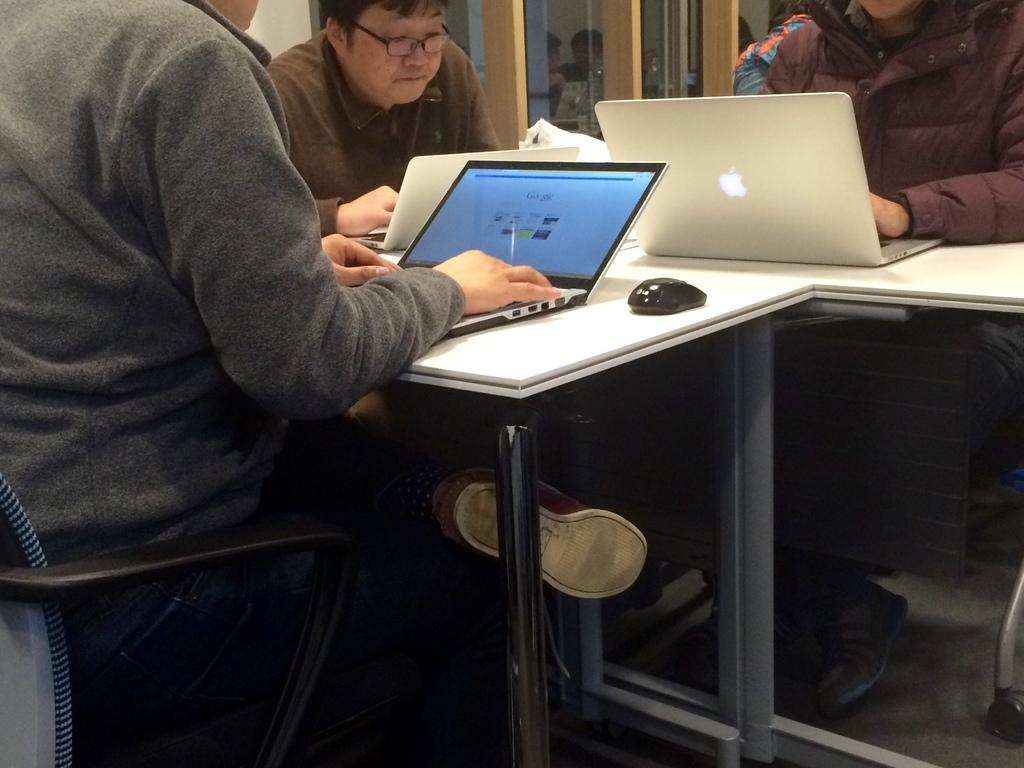Laptop: (392, 161, 668, 340), (617, 102, 890, 278), (340, 146, 578, 255)
